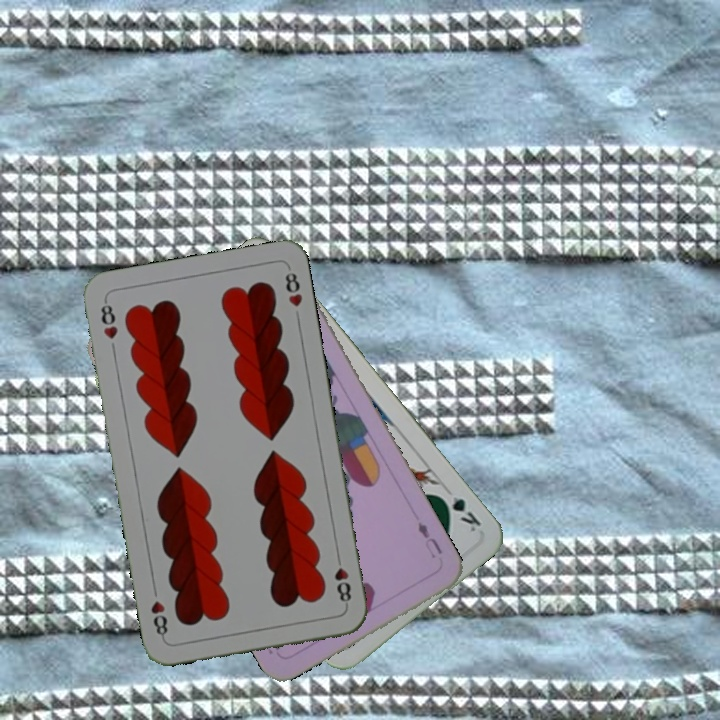EU: (413, 518, 445, 562)
GK: (435, 491, 484, 535)
H8: (330, 550, 354, 609), (97, 296, 121, 342)
